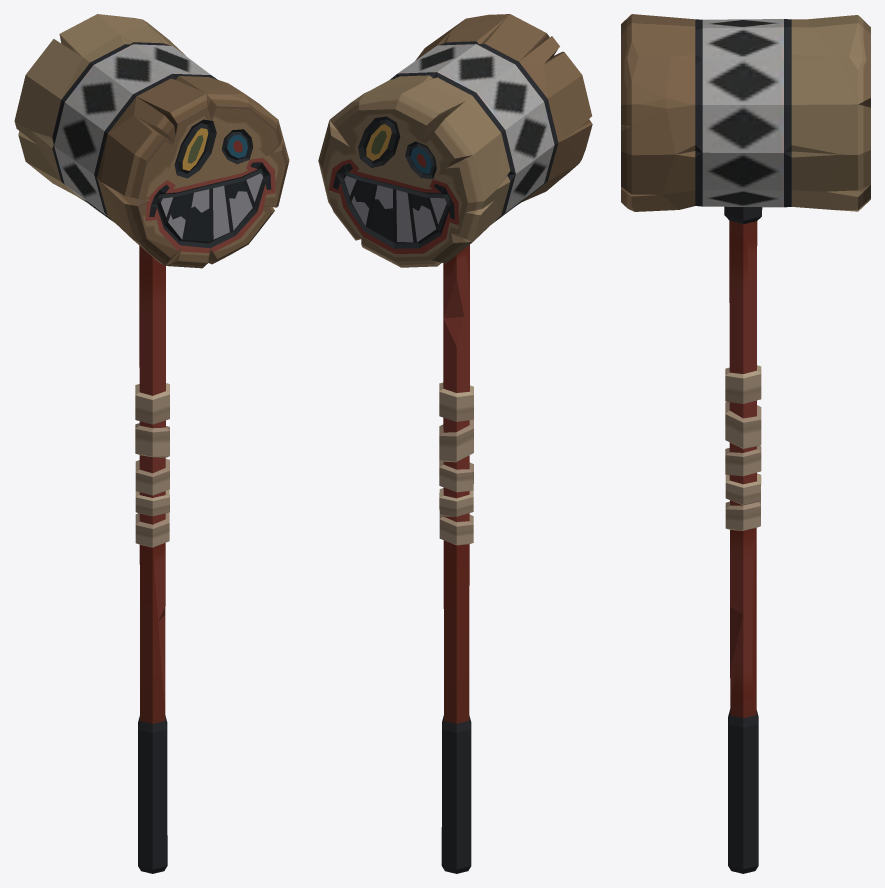
The model's file is SM_Wep_Mallet_01.glb.
3 views of the same model, side by side, from view 1: azimuth 30°, elevation 25°; view 2: azimuth 150°, elevation 25°; view 3: azimuth 270°, elevation 25° (orthographic). The views are drawn at different scales.
Visible parts, largest first — view 1: SM_Wep_Mallet_01; view 2: SM_Wep_Mallet_01; view 3: SM_Wep_Mallet_01.
Part boxes in pixels (x1,y1,x2,y2): SM_Wep_Mallet_01: (14, 14, 289, 873); SM_Wep_Mallet_01: (318, 14, 592, 873); SM_Wep_Mallet_01: (621, 14, 870, 873).
Size of the model in its own units: 38.6 by 181 by 48.48.
Materials: 1 (1 with a texture image).
